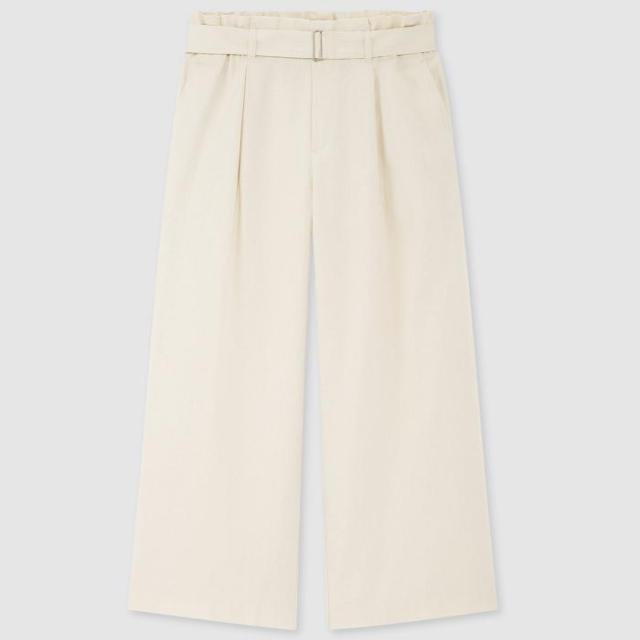long-pants: (125, 10, 505, 637)
